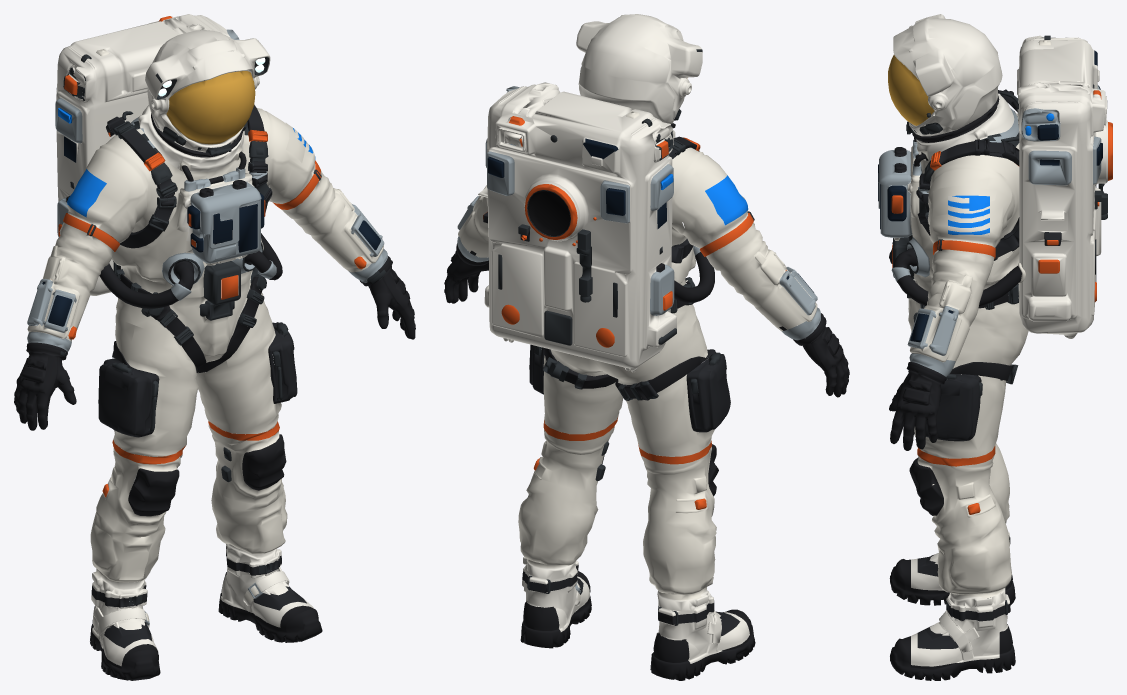
The model's file is astronaut-v2.glb.
The picture shows the model from 3 angles, left to right: view 1: azimuth 30°, elevation 25°; view 2: azimuth 150°, elevation 25°; view 3: azimuth 270°, elevation 25°; orthographic projection.
Parts seen in each view (by area): view 1: part-01, part-02, part-04, part-05, part-06, part-13, part-07, part-03, part-08, part-09; view 2: part-02, part-01, part-04, part-05, part-06, part-13, part-03, part-08, part-14, part-09; view 3: part-02, part-01, part-04, part-06, part-05, part-03, part-13, part-07, part-08, part-11, part-10.
Boxes of the visible parts, x1,y1,x2,y2 form: part-01: (27,49,383,626); part-02: (56,14,313,666); part-04: (14,113,415,680); part-05: (91,105,306,648); part-06: (27,29,387,625); part-13: (60,54,386,605); part-07: (166,71,255,144); part-03: (58,16,366,497); part-08: (42,136,380,326); part-09: (67,169,106,217); part-02: (478,14,749,663); part-01: (458,111,817,600); part-04: (444,123,849,680); part-05: (483,136,740,636); part-06: (457,86,820,593); part-13: (498,49,754,625); part-03: (483,116,786,509); part-08: (487,138,813,292); part-14: (528,190,570,236); part-09: (511,144,748,225); part-02: (878,14,1107,666); part-01: (894,40,1051,598); part-04: (889,96,1021,680); part-06: (878,85,1101,376); part-05: (916,89,1061,649); part-03: (891,90,1112,514); part-13: (893,35,1107,614); part-07: (888,55,934,125); part-08: (878,50,1102,342); part-11: (948,113,1054,234); part-10: (948,196,989,235).
Bounding box in the file's own units: 1.21 × 1.8 × 0.6305.
